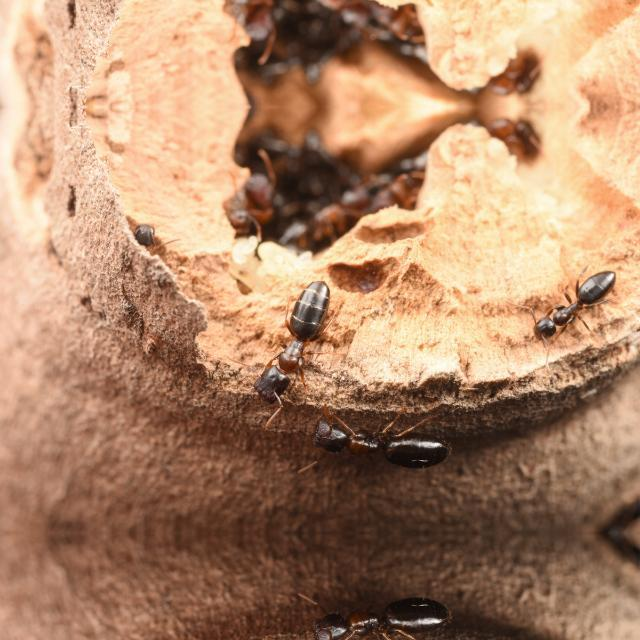Colobopsis: (232, 274, 344, 432), (305, 408, 465, 474), (518, 263, 626, 345), (305, 590, 465, 640), (232, 174, 286, 226), (232, 0, 284, 38), (120, 217, 162, 259)
